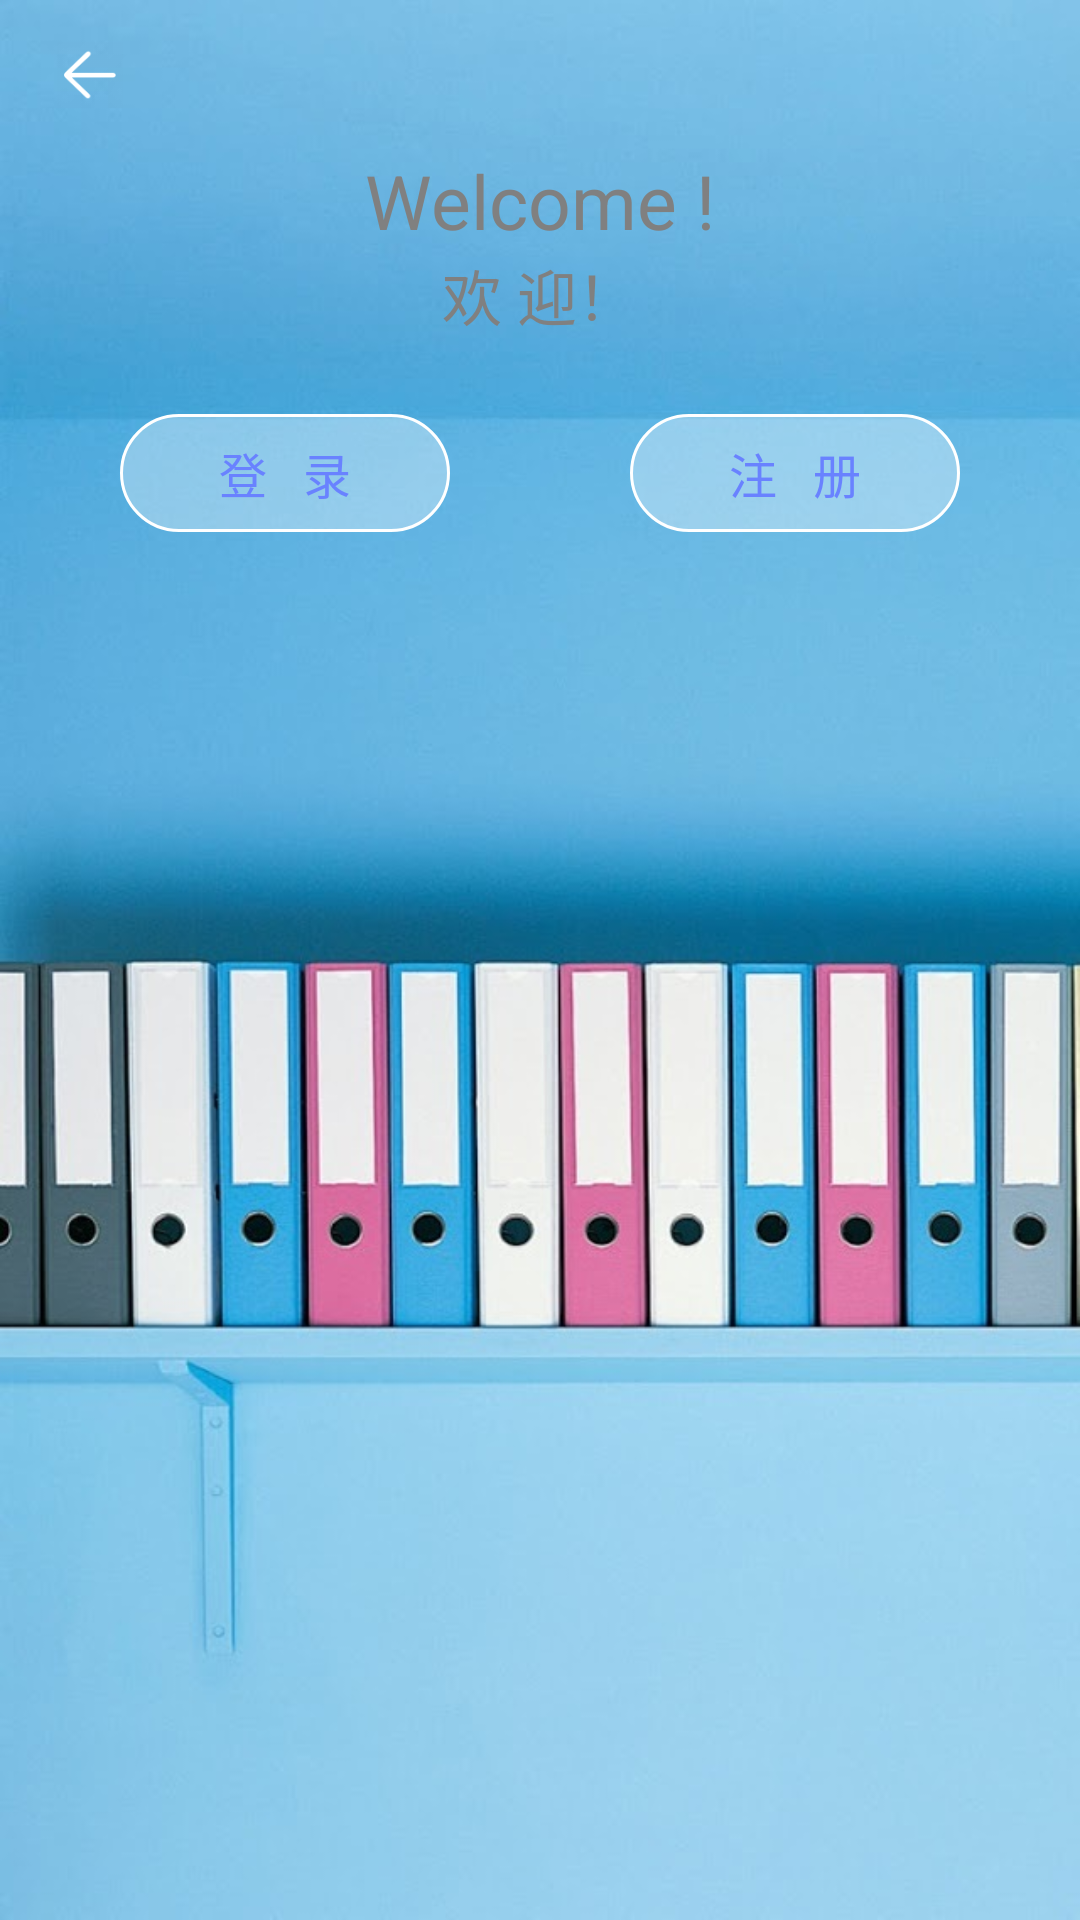

Icons on this 1080px×1920px Android screen, each with its box as region(x1, y1, x2, y2):
back: region(64, 51, 116, 99)
